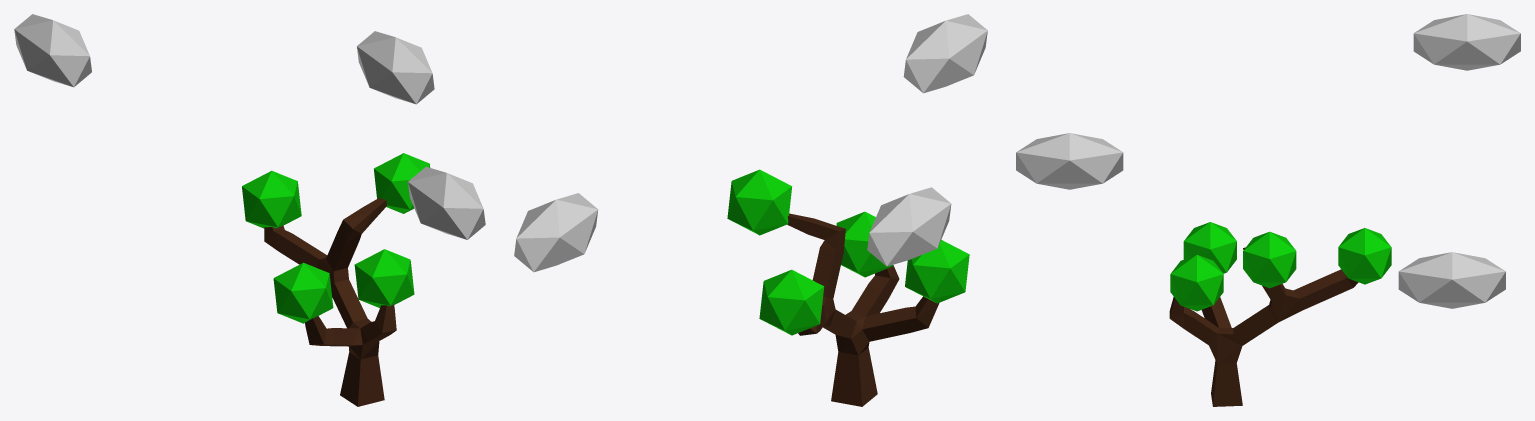
Rendered from Arbolito.obj.
3 renders of one model, left to right at view 1: azimuth 30°, elevation 25°; view 2: azimuth 150°, elevation 25°; view 3: azimuth 270°, elevation 25°, orthographic. The views are drawn at different scales.
Visible parts, largest first — view 1: Cube, Esfera_geodésica.005, Esfera_geodésica.004, Esfera_geodésica.006, Esfera_geodésica.002, Esfera_geodésica.003, Esfera_geodésica.001, Esfera_geodésica; view 2: Cube, Esfera_geodésica.006, Esfera_geodésica.004, Esfera_geodésica.005, Esfera_geodésica.001, Esfera_geodésica, Esfera_geodésica.002, Esfera_geodésica.003; view 3: Cube, Esfera_geodésica.004, Esfera_geodésica.006, Esfera_geodésica.005, Esfera_geodésica, Esfera_geodésica.003, Esfera_geodésica.001, Esfera_geodésica.002.
Part boxes in pixels (x1,y1,x2,y2): Cube: (264,197,396,406); Esfera_geodésica.005: (357,31,434,104); Esfera_geodésica.004: (408,166,485,239); Esfera_geodésica.006: (14,14,91,87); Esfera_geodésica.002: (273,262,333,323); Esfera_geodésica.003: (354,249,414,307); Esfera_geodésica.001: (242,170,301,228); Esfera_geodésica: (374,153,430,213); Cube: (787,213,939,406); Esfera_geodésica.006: (867,187,951,266); Esfera_geodésica.004: (903,14,987,93); Esfera_geodésica.005: (514,193,598,272); Esfera_geodésica.001: (759,269,824,335); Esfera_geodésica: (727,169,792,235); Esfera_geodésica.002: (905,240,969,303); Esfera_geodésica.003: (836,211,893,277); Cube: (1169,247,1358,406); Esfera_geodésica.004: (1016,133,1123,189); Esfera_geodésica.006: (1413,14,1520,70); Esfera_geodésica.005: (1398,252,1505,308); Esfera_geodésica: (1243,231,1296,288); Esfera_geodésica.003: (1170,255,1223,311); Esfera_geodésica.001: (1338,228,1391,284); Esfera_geodésica.002: (1183,222,1236,273).
Size of the model in its own units: 13.25 by 10.73 by 16.11.
